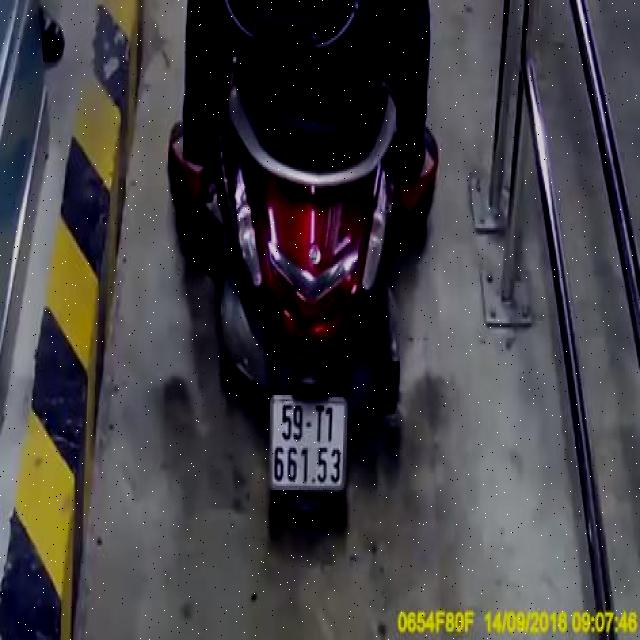1: (300, 445, 310, 486), (325, 405, 334, 443)
3: (330, 447, 342, 485)
5: (316, 445, 328, 484), (281, 403, 293, 441)
6: (286, 445, 298, 483), (274, 444, 284, 482)
9: (293, 403, 304, 442)
T: (315, 403, 325, 443)
